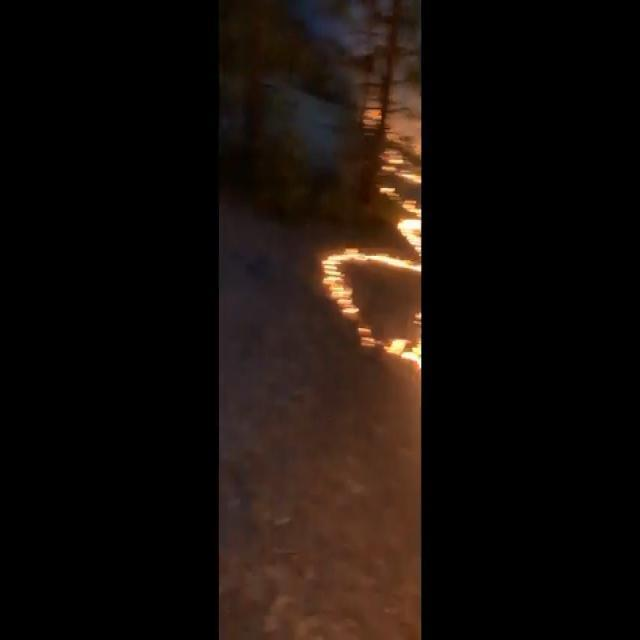Fire: (326, 83, 422, 377)
